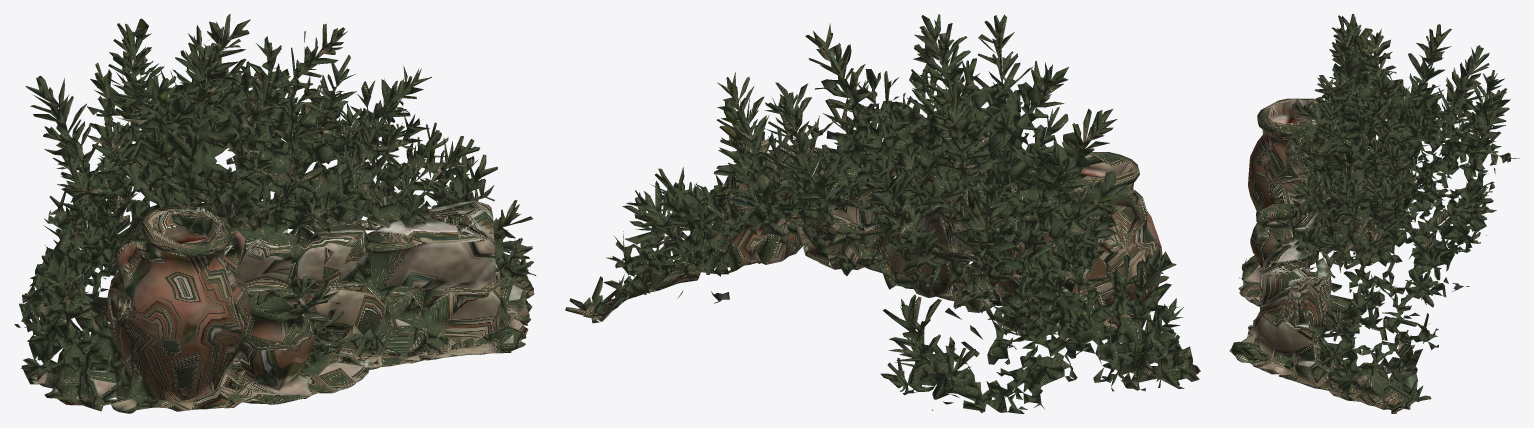
The model's file is olive-wall-cluster-a.glb.
The picture shows the model from 3 angles, left to right: view 1: azimuth 30°, elevation 25°; view 2: azimuth 150°, elevation 25°; view 3: azimuth 270°, elevation 25°; orthographic projection. The views are drawn at different scales.
Parts seen in each view (by area): view 1: geometry_0; view 2: geometry_0; view 3: geometry_0.
Boxes of the visible parts, <box> form: geometry_0: <box>14,14,536,413</box>; geometry_0: <box>565,14,1200,413</box>; geometry_0: <box>1229,14,1519,413</box>.
Size of the model in its own units: 2.13 by 1.25 by 1.26.
Materials: 1 (1 with a texture image).
